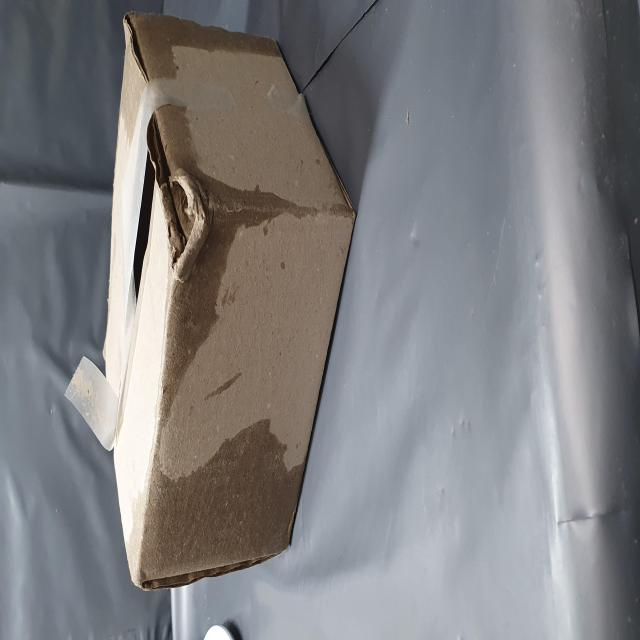wet: (126, 270, 302, 530), (30, 212, 124, 562)
